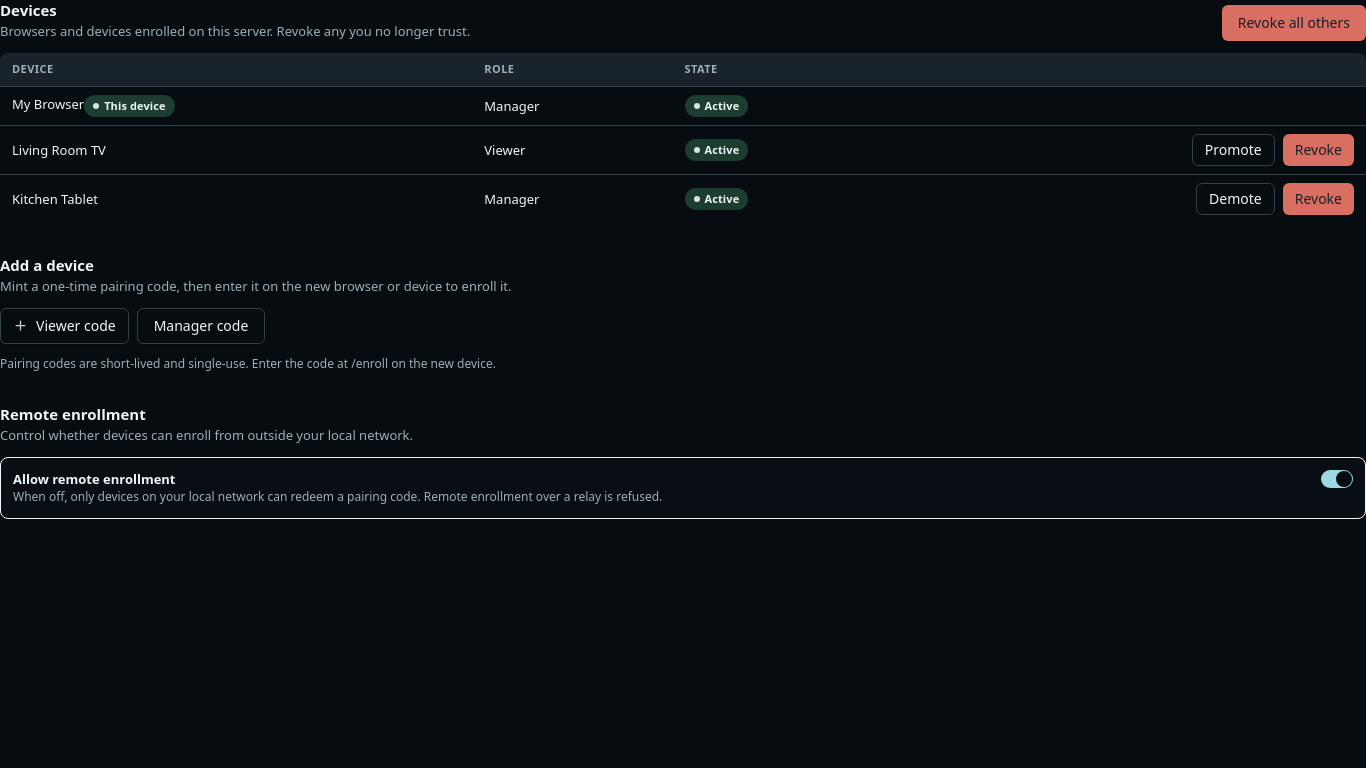
Test: Devices (ADR-0081 administration) › mints a manager pairing code behind a confirm and shows the code
The width and height of the screenshot is (1366, 768).
Expected: the text "My Browser" is shown, [12, 95, 84, 113]
Click the button "Manager code" at (201, 326), box [137, 308, 265, 344]
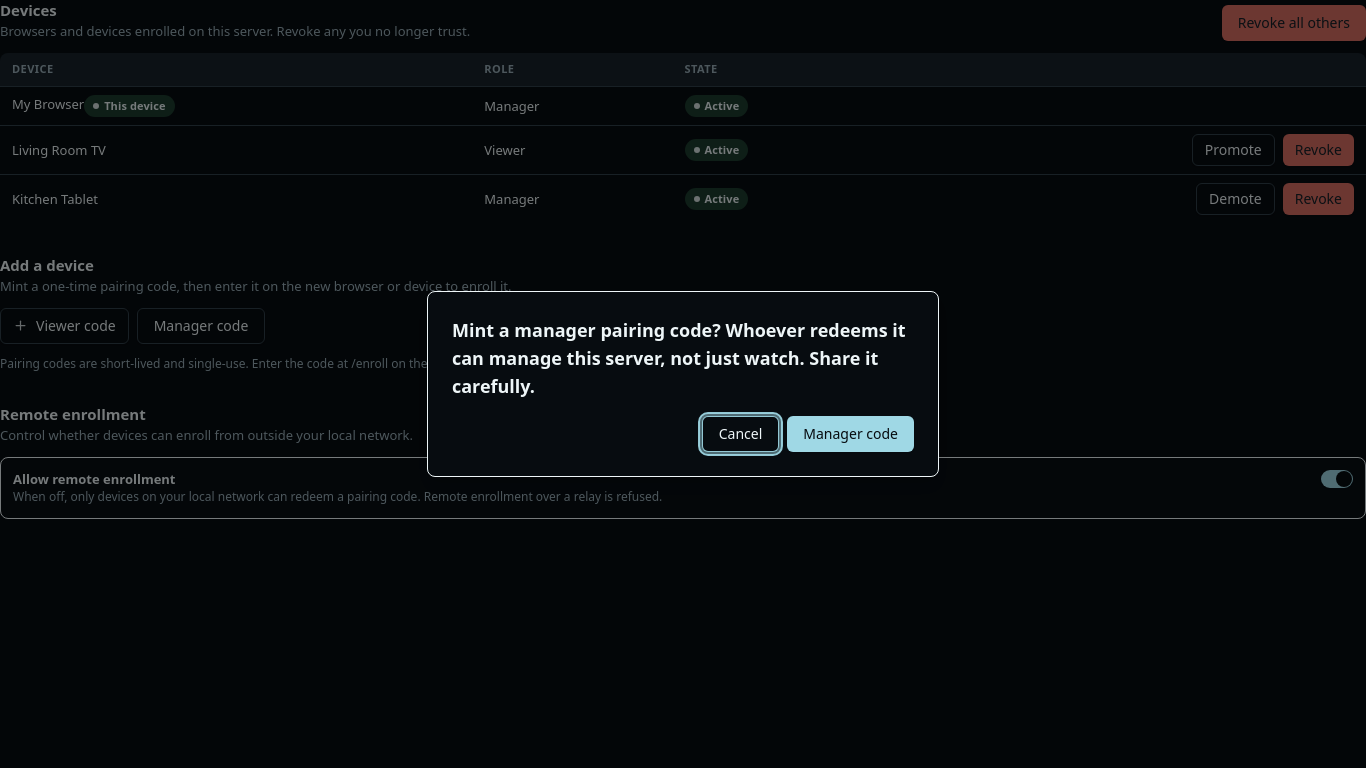
Expected: the heading "Whoever redeems it can manage this server" is shown, [452, 316, 914, 400]
Click the button "Manager code" at (851, 434), box [787, 416, 914, 452]
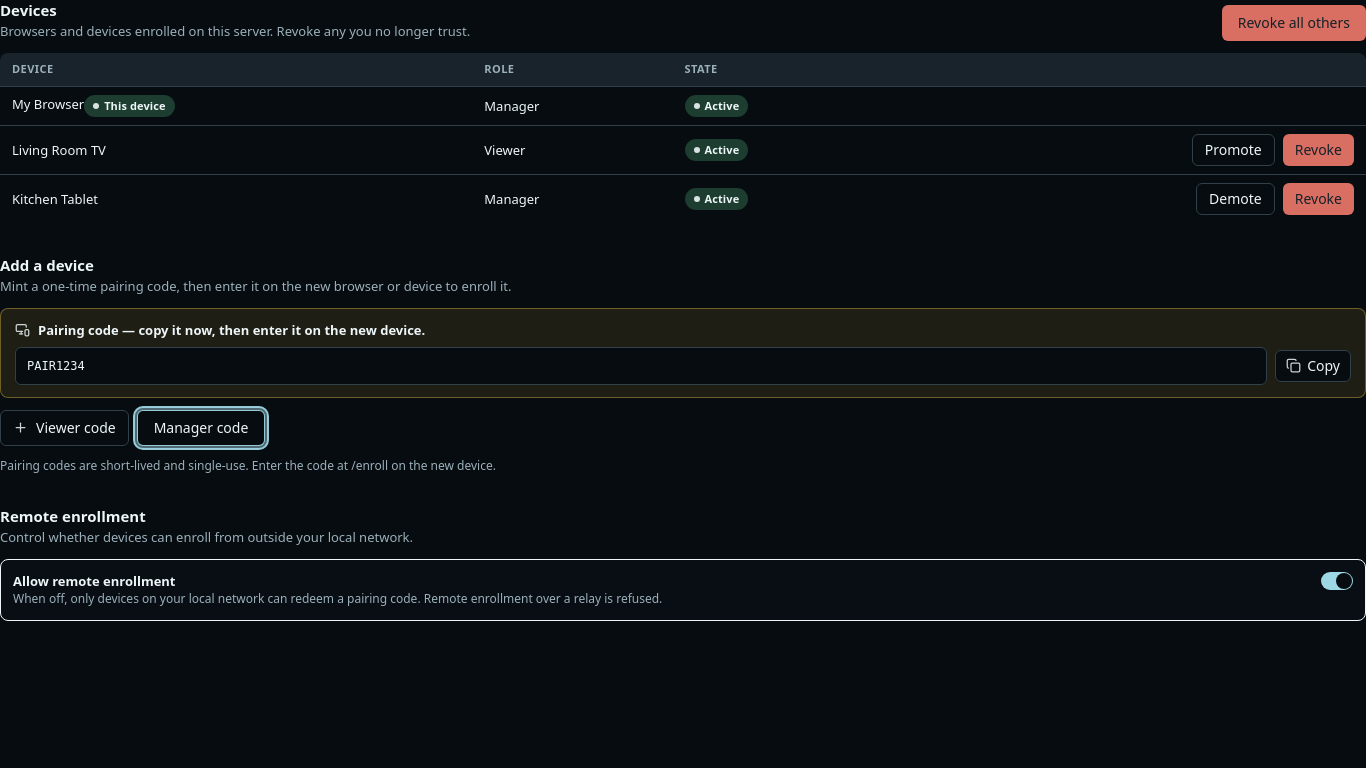
Expected: the text "PAIR1234" is shown, [15, 346, 1267, 384]
